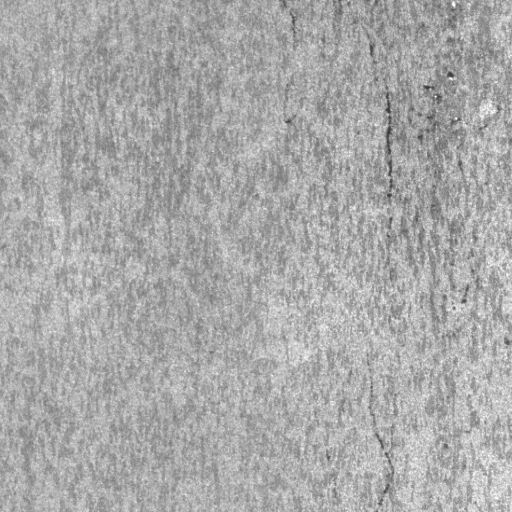zongxiangliewen: (365, 344, 395, 507), (379, 76, 400, 273)
